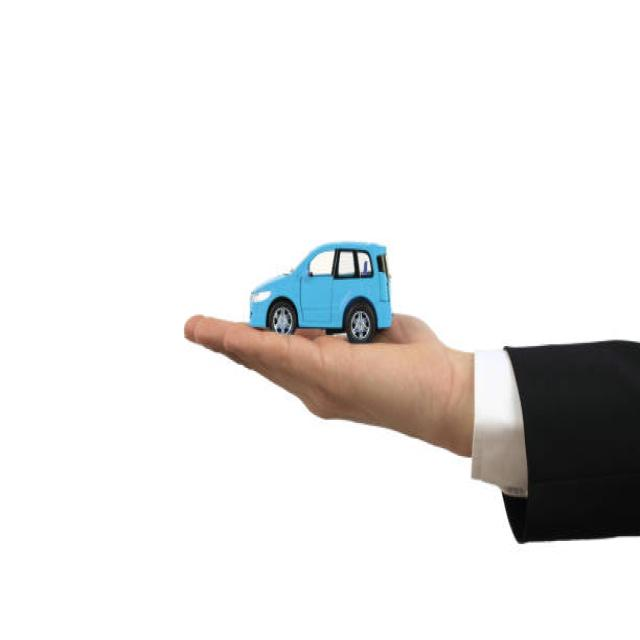Car: (248, 239, 392, 343)
